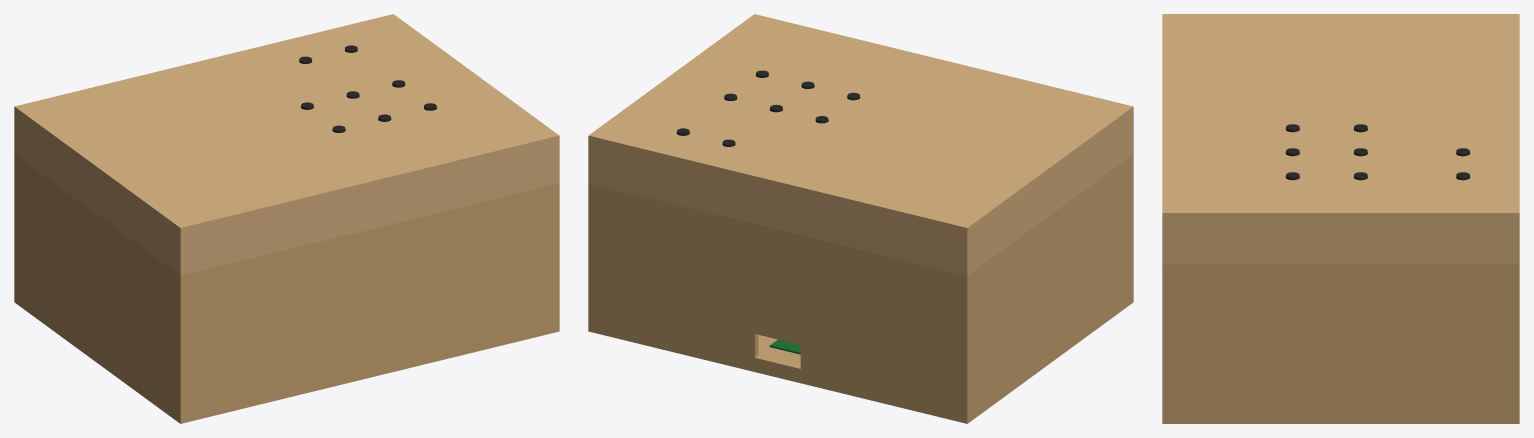
The model's file is caixa.glb.
3 views of the same model, side by side, from view 1: azimuth 30°, elevation 25°; view 2: azimuth 150°, elevation 25°; view 3: azimuth 270°, elevation 25° (orthographic). The views are drawn at different scales.
Visible parts, largest first — view 1: tampa, corpo, botoes; view 2: tampa, corpo, botoes; view 3: tampa, corpo, botoes.
Boxes of the visible parts, box(x1,y1,x2,y2) form: tampa: box(14, 14, 559, 275); corpo: box(14, 154, 559, 423); botoes: box(299, 45, 436, 132); tampa: box(588, 14, 1133, 275); corpo: box(588, 154, 1133, 423); botoes: box(677, 70, 859, 146); tampa: box(1162, 14, 1519, 264); corpo: box(1162, 264, 1519, 423); botoes: box(1286, 124, 1469, 180).
Size of the model in its own units: 415 by 207 by 315.
